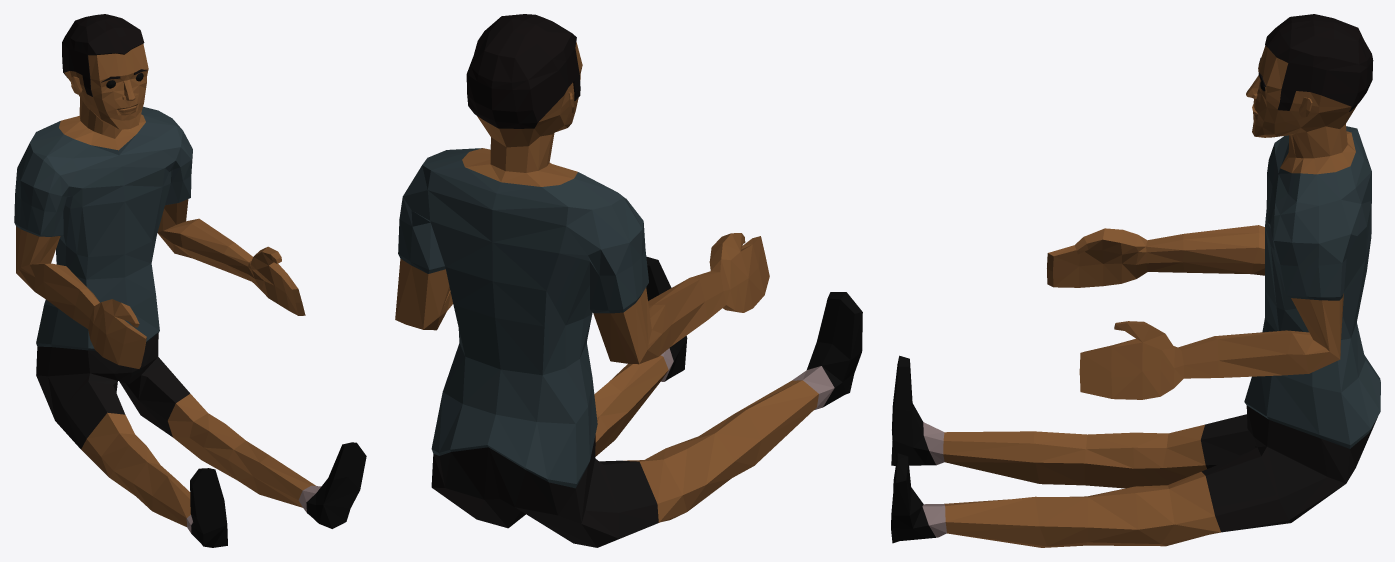
File: dude.obj
3 views of the same model, side by side, from view 1: azimuth 30°, elevation 25°; view 2: azimuth 150°, elevation 25°; view 3: azimuth 270°, elevation 25° (orthographic). The views are drawn at different scales.
Parts seen in each view (by area): view 1: BaseHuman_Cylinder.002; view 2: BaseHuman_Cylinder.002; view 3: BaseHuman_Cylinder.002.
Part boxes in pixels (x1,y1,x2,y2): BaseHuman_Cylinder.002: (14, 14, 366, 547); BaseHuman_Cylinder.002: (395, 14, 862, 547); BaseHuman_Cylinder.002: (891, 14, 1380, 547).
Bounding box in the file's own units: 0.782 × 1.53 × 1.36.
